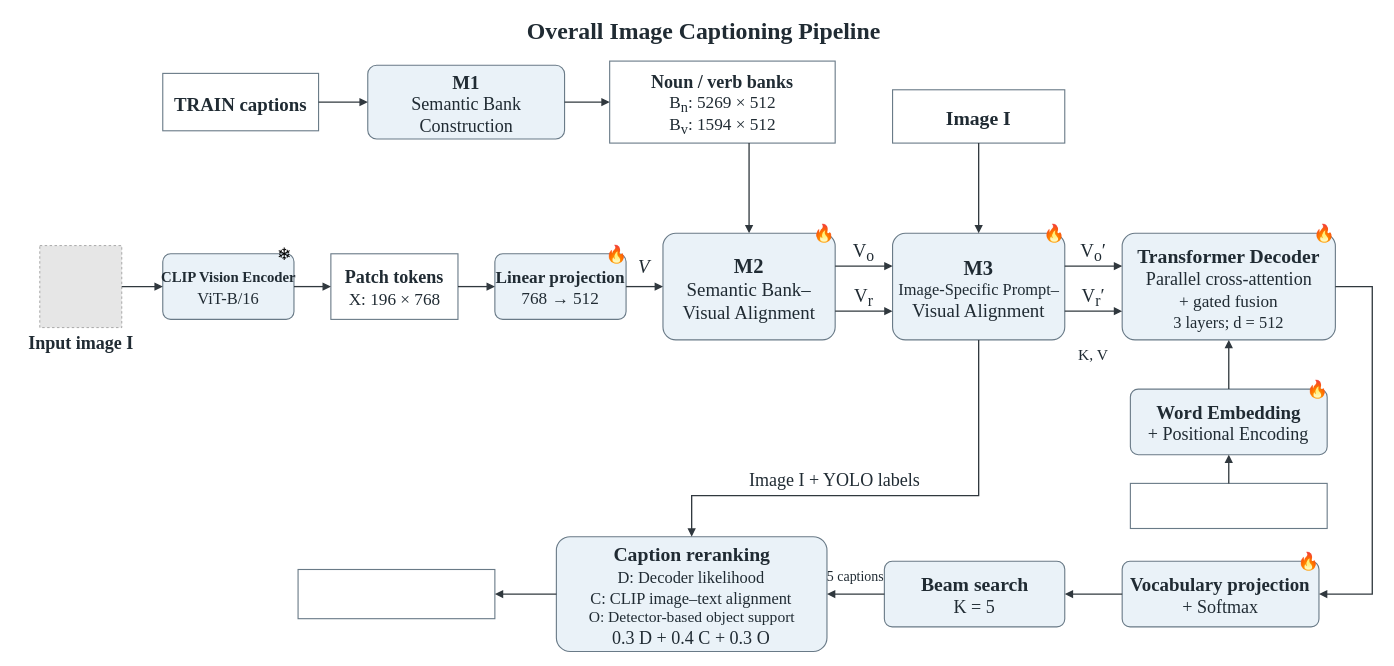
Some shapes in this 1394 by 666 pixel diagram are drawn without their labels. Grey dashed boxes stand in for pictures. The centre of each missing label's shape, as x and y in pixels:
Caption prefix: the point at 1228,505
Final caption: the point at 396,594
